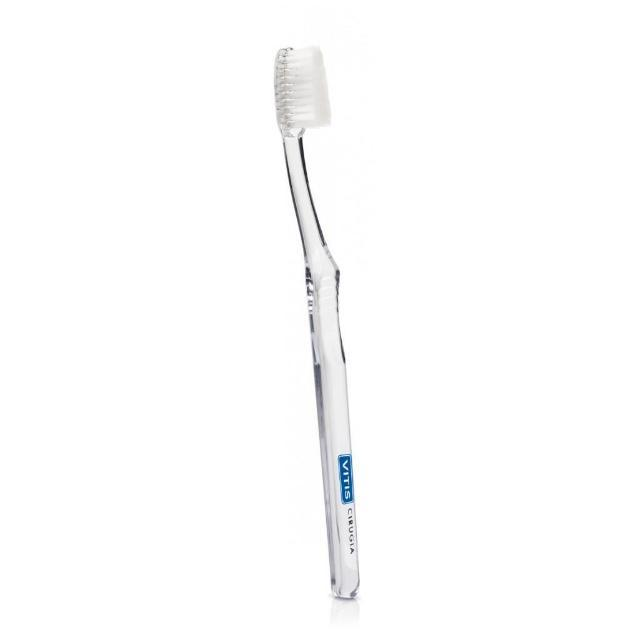toothbrush: (246, 18, 404, 272)
